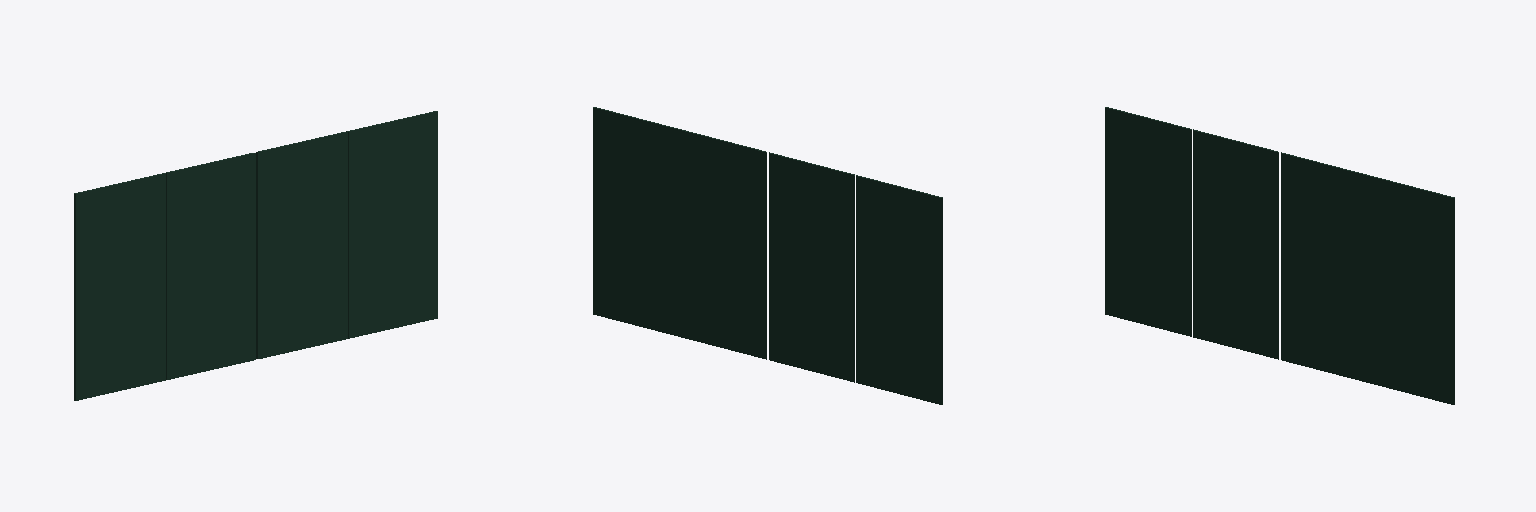
The model's file is puertavidrio9.obj.
3 views of the same model, side by side, from view 1: azimuth 30°, elevation 25°; view 2: azimuth 150°, elevation 25°; view 3: azimuth 330°, elevation 25° (orthographic).
Visible parts, largest first — view 1: glass_door01_obj9:Object004 pasted__pasted__pasted__pasted__past; view 2: glass_door01_obj9:Object004 pasted__pasted__pasted__pasted__past; view 3: glass_door01_obj9:Object004 pasted__pasted__pasted__pasted__past.
Boxes of the visible parts, box(x1,y1,x2,y2) form: glass_door01_obj9:Object004 pasted__pasted__pasted__pasted__past: box(74, 111, 437, 400); glass_door01_obj9:Object004 pasted__pasted__pasted__pasted__past: box(593, 107, 942, 404); glass_door01_obj9:Object004 pasted__pasted__pasted__pasted__past: box(1105, 107, 1454, 404).
Size of the model in its own units: 4.99 by 2.77 by 0.1675.